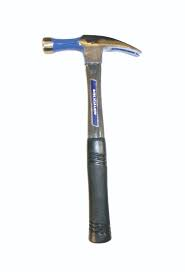hammer: (41, 35, 142, 243)
